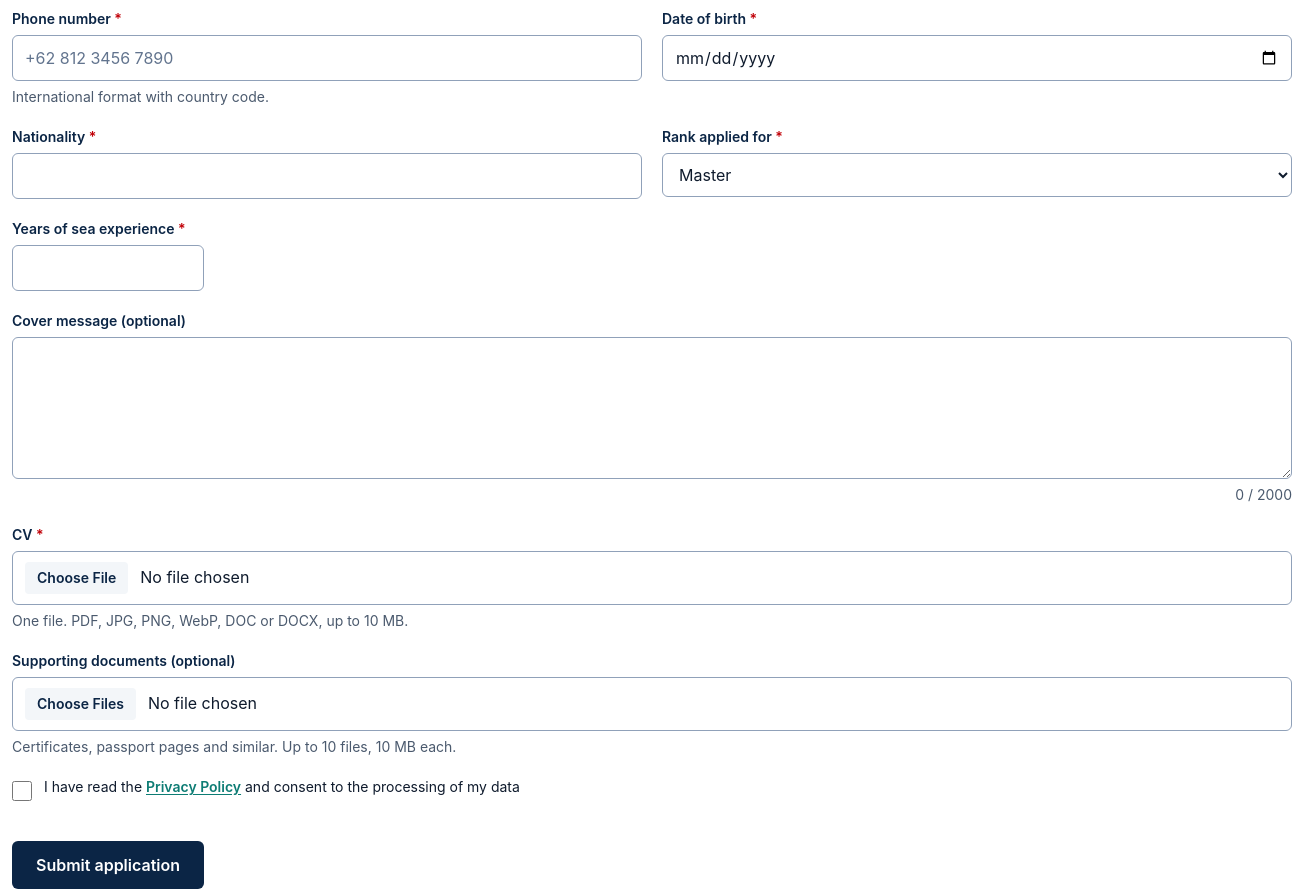
Scenario: ApplicationForm › shows announced errors and focuses the first invalid field on an empty submit
(page scrolled)
Click the button "Submit application": (108,865) [12, 841, 204, 888]
(page scrolled)
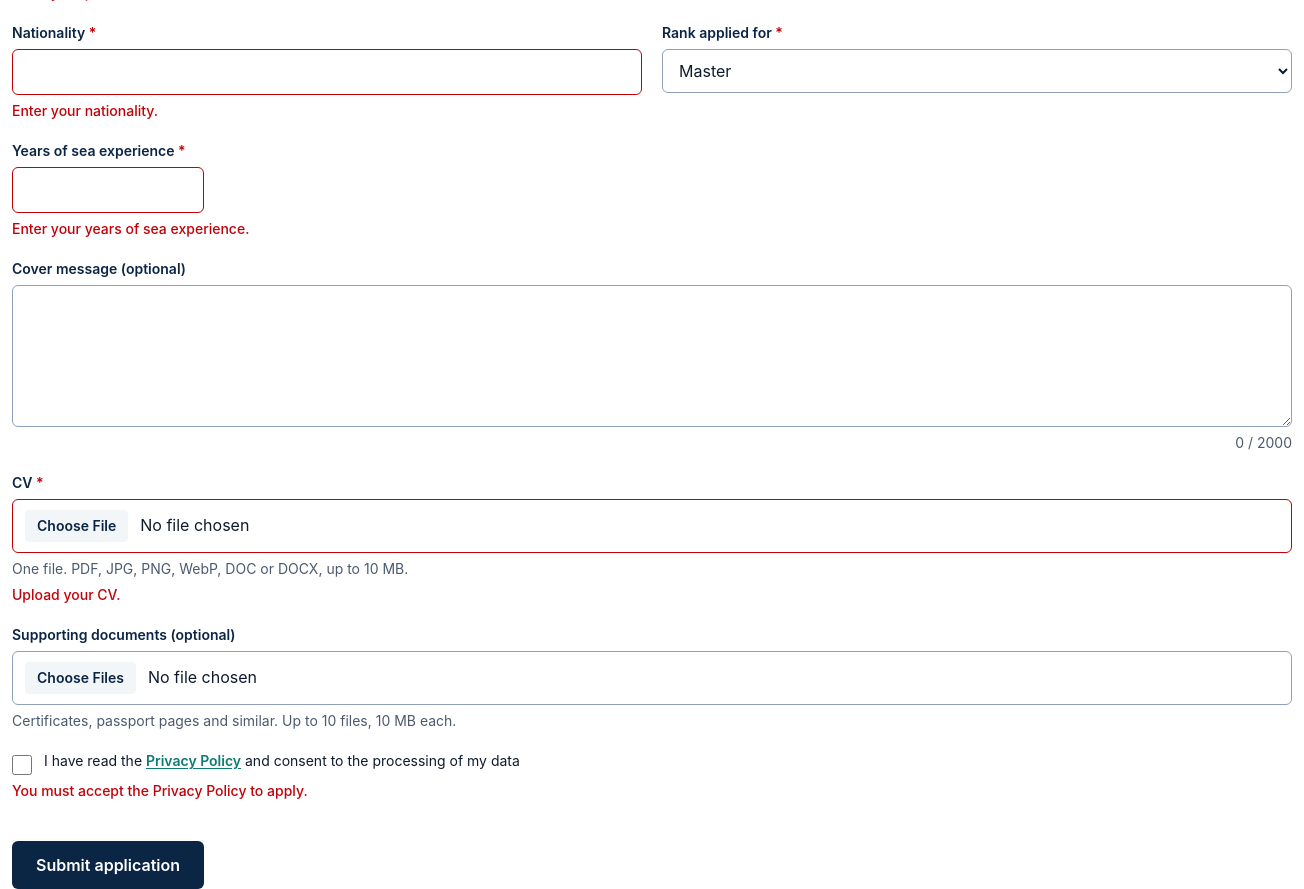
Expected: the text "Upload your CV." is shown, [12, 586, 120, 603]
Expected: the text "You must accept the Privacy Policy to apply." is shown, [12, 782, 308, 799]
